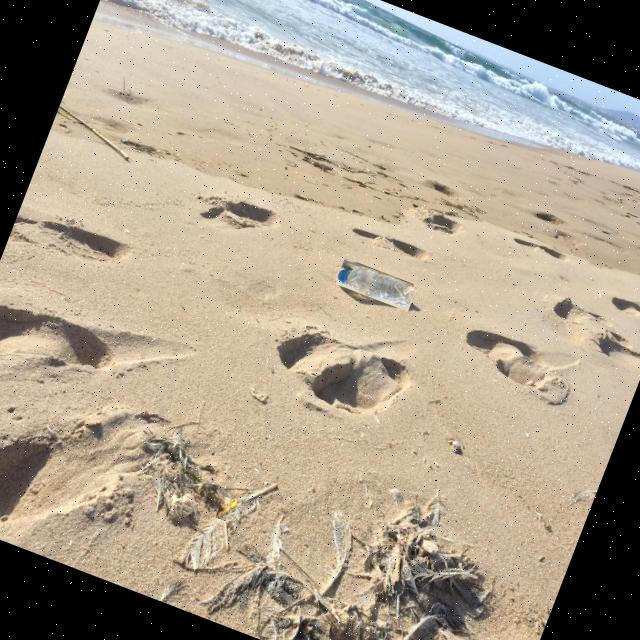Clear plastic bottle: (338, 269, 414, 308)
Plastic bottle cap: (404, 286, 414, 301)
Unlabeled litter: (215, 501, 238, 518)
